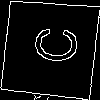C: (24, 23, 79, 65)
